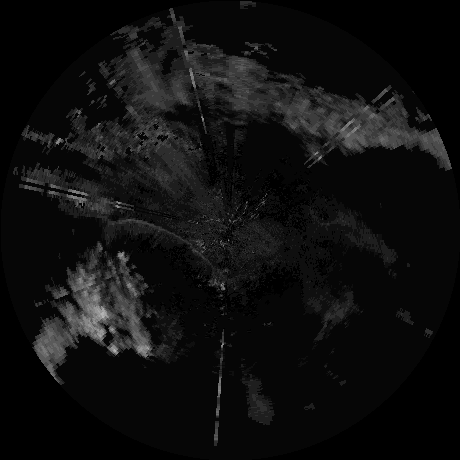frontgust: (110, 218, 212, 271)
